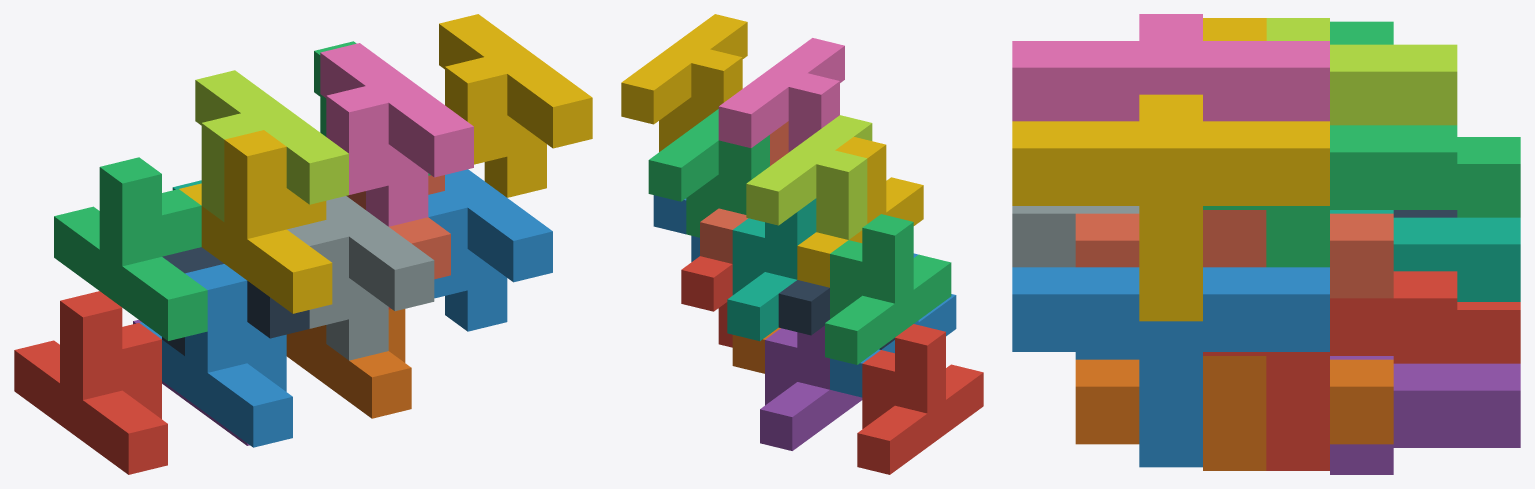
Rendered from tiling.obj.
The picture shows the model from 3 angles, left to right: view 1: azimuth 30°, elevation 25°; view 2: azimuth 150°, elevation 25°; view 3: azimuth 270°, elevation 25°; orthographic projection. The views are drawn at different scales.
Visible parts, largest first — view 1: copy_1_domain_1, copy_1_domain_3, copy_2_domain_4, copy_2_domain_8, copy_1_domain_4, copy_1_domain_2, copy_2_domain_2, copy_2_domain_6, copy_2_domain_3, copy_1_domain_6, copy_2_domain_1, copy_1_domain_8 (+1 smaller); view 2: copy_1_domain_1, copy_1_domain_3, copy_2_domain_8, copy_2_domain_3, copy_2_domain_4, copy_2_domain_7, copy_1_domain_5, copy_1_domain_7, copy_1_domain_4, copy_2_domain_5, copy_2_domain_1, copy_1_domain_8 (+3 smaller); view 3: copy_2_domain_8, copy_2_domain_6, copy_2_domain_4, copy_1_domain_6, copy_2_domain_5, copy_2_domain_7, copy_1_domain_5, copy_1_domain_8, copy_2_domain_3, copy_1_domain_7, copy_1_domain_3, copy_1_domain_1 (+2 smaller).
Boxes of the visible parts, x1,y1,x2,y2 form: copy_1_domain_1: (14,291,167,474); copy_1_domain_3: (54,157,207,340); copy_2_domain_4: (320,43,473,226); copy_2_domain_8: (439,14,592,197); copy_1_domain_4: (179,130,332,313); copy_1_domain_2: (139,264,292,447); copy_2_domain_2: (287,196,434,360); copy_2_domain_6: (428,169,552,331); copy_2_domain_3: (195,70,348,221); copy_1_domain_6: (286,309,411,418); copy_2_domain_1: (162,247,309,355); copy_1_domain_8: (346,175,450,279); copy_1_domain_1: (857,324,983,474); copy_1_domain_3: (825,214,951,364); copy_2_domain_8: (621,14,747,151); copy_2_domain_3: (746,115,872,239); copy_2_domain_4: (718,38,844,152); copy_2_domain_7: (648,109,769,237); copy_1_domain_5: (760,325,862,450); copy_1_domain_7: (727,198,816,341); copy_1_domain_4: (797,137,923,287); copy_2_domain_5: (681,256,732,347); copy_2_domain_1: (778,280,894,349); copy_1_domain_8: (700,121,788,263); copy_2_domain_8: (1012,94,1329,321); copy_2_domain_6: (1012,267,1329,467); copy_2_domain_4: (1012,14,1329,121); copy_1_domain_6: (1075,356,1393,470); copy_2_domain_5: (1203,271,1457,470); copy_2_domain_7: (1203,125,1457,267); copy_1_domain_5: (1330,356,1520,474); copy_1_domain_8: (1075,210,1393,298); copy_2_domain_3: (1266,18,1457,125); copy_1_domain_7: (1330,210,1520,301); copy_1_domain_3: (1330,21,1520,217); copy_1_domain_1: (1393,302,1520,363).
Bounding box in the file's own units: 10 × 8 × 8.
